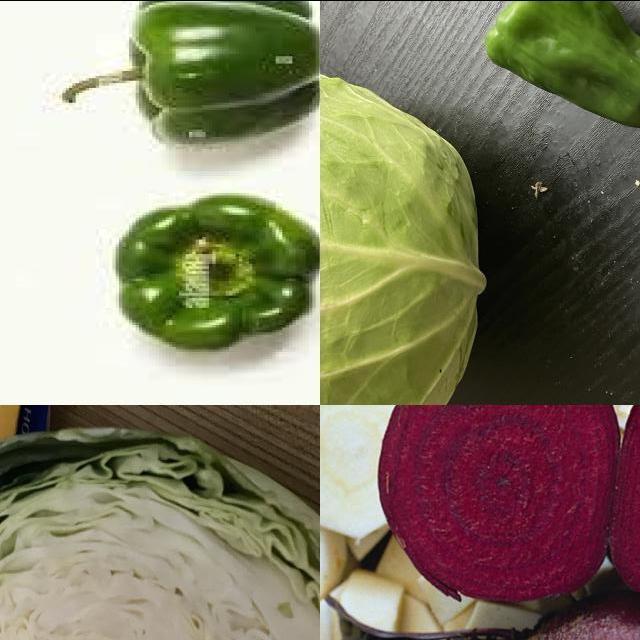beet: (377, 405, 616, 607)
bell_pepper: (42, 1, 321, 148), (99, 186, 321, 350)
cabbage: (1, 424, 321, 640), (321, 66, 493, 405)
